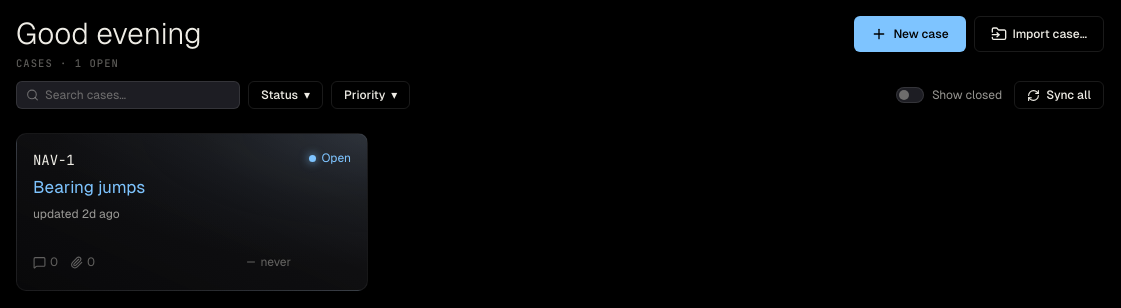
CaseDashboard triage › surfaces a sync failure
Click the button "Sync all" at (1059, 95), box [1014,81,1104,109]
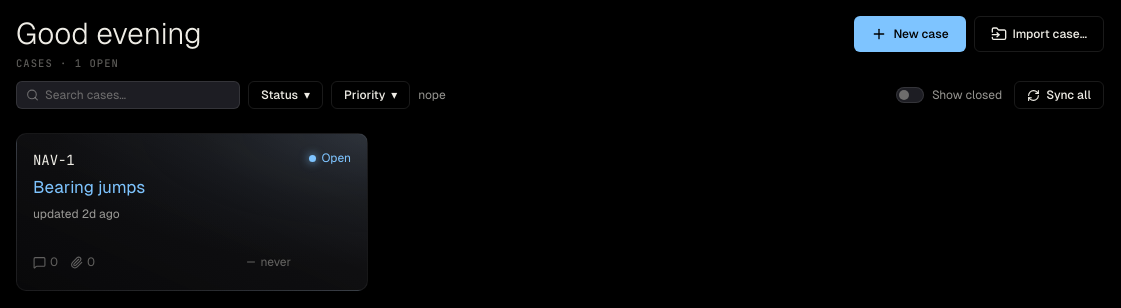
Result: the text "nope" is shown at [418,87,446,103]
